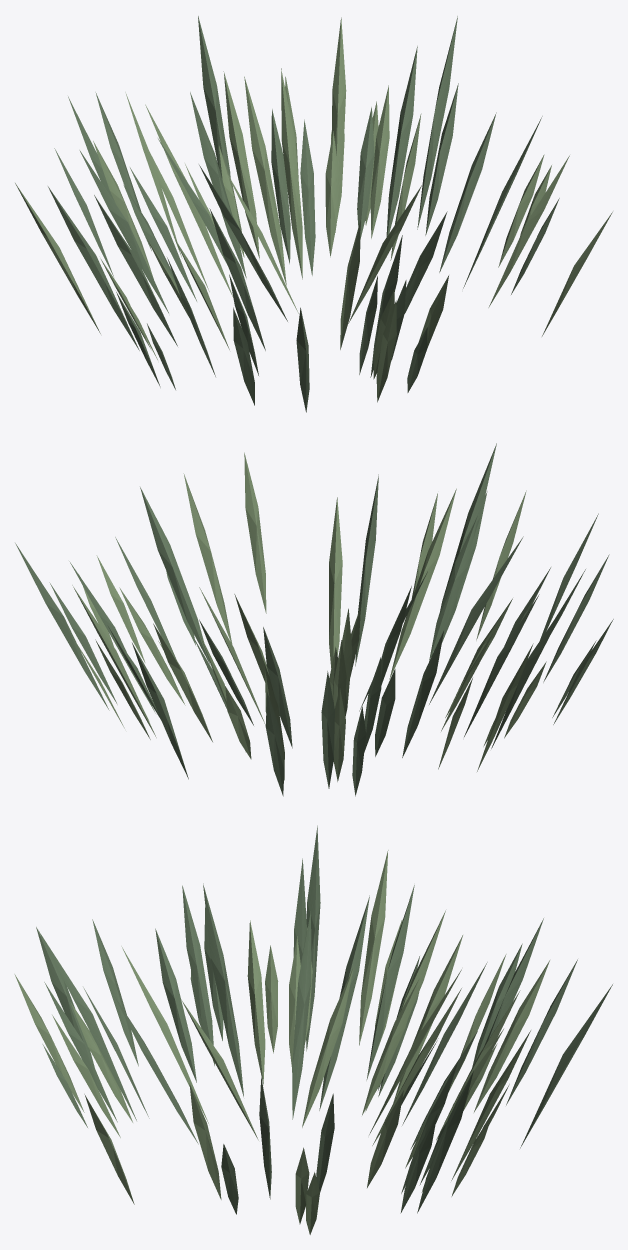
The model's file is Grass3.fbx.
The picture shows the model from 3 angles, top to bottom: view 1: azimuth 30°, elevation 25°; view 2: azimuth 150°, elevation 25°; view 3: azimuth 270°, elevation 25°; orthographic projection.
Visible parts, largest first — view 1: Grass3_LOD0; view 2: Grass3_LOD0; view 3: Grass3_LOD0.
Part boxes in pixels (x1,y1,x2,y2): Grass3_LOD0: (15,16,612,412); Grass3_LOD0: (15,443,613,796); Grass3_LOD0: (14,825,612,1234).
Size of what is drawn, in the model's own units: 83.19 by 29.32 by 86.04.
Materials: 1 (1 with a texture image).
